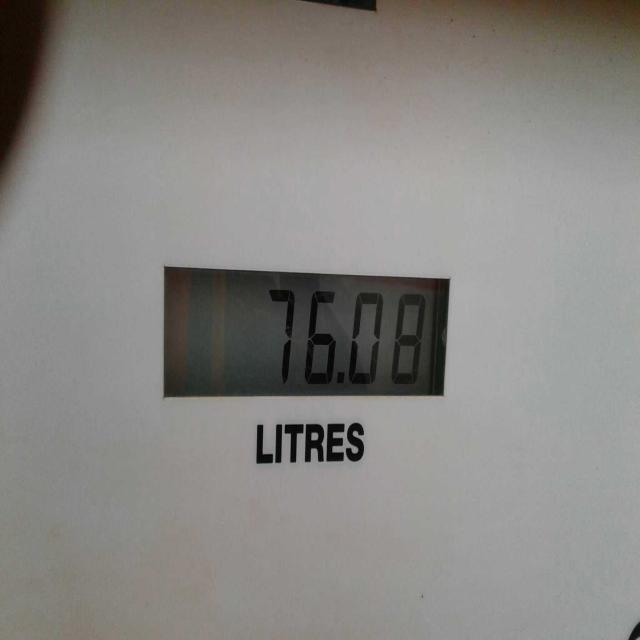.: (331, 368, 347, 396)
0: (343, 282, 388, 392)
6: (300, 284, 340, 393)
7: (266, 276, 304, 396)
8: (386, 287, 429, 392)
